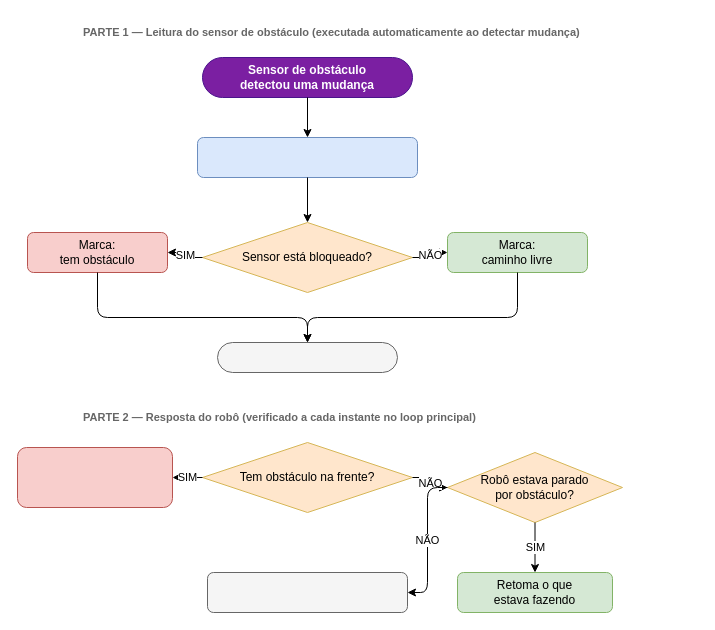
This 715x630 diagram has some shape labels left out. Each missing label, with the centre of its shape:
"Continua normalmente" belongs at (x=307, y=592).
"Fim da leitura do sensor" belongs at (x=307, y=357).
"Lê o estado do sensor (bloqueado ou livre?)" belongs at (x=307, y=157).
"Salva o que estava fazendo Para o robô aguarda obstáculo sair" belongs at (x=94, y=477).
